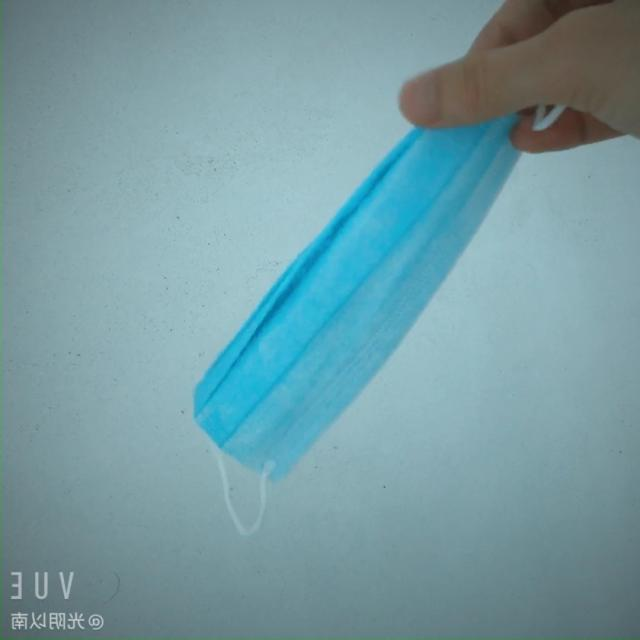face mask: (187, 54, 542, 492)
